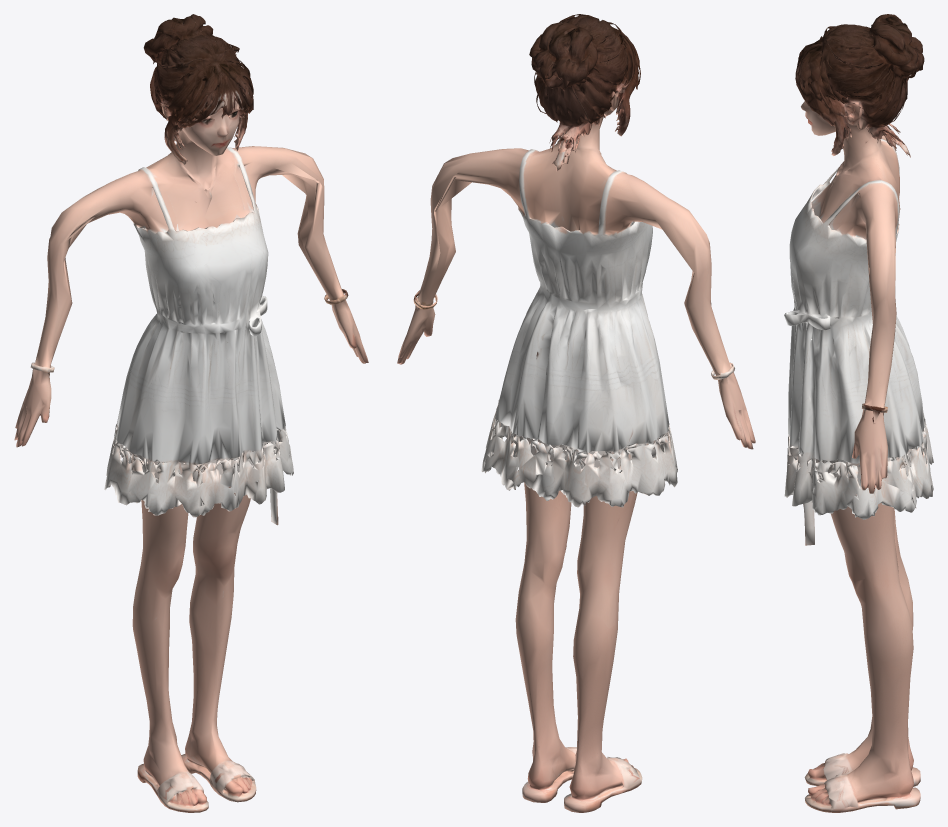
The model's file is OpenArms.glb.
The picture shows the model from 3 angles, left to right: view 1: azimuth 30°, elevation 25°; view 2: azimuth 150°, elevation 25°; view 3: azimuth 270°, elevation 25°; orthographic projection.
Visible parts, largest first — view 1: OpenArms; view 2: OpenArms; view 3: OpenArms.
Part boxes in pixels (bbox=[...]): OpenArms: bbox=[14, 14, 368, 812]; OpenArms: bbox=[397, 14, 755, 812]; OpenArms: bbox=[784, 14, 933, 812].
Bounding box in the file's own units: 0.819 × 1.7 × 0.2994.
Materials: 1 (1 with a texture image).
